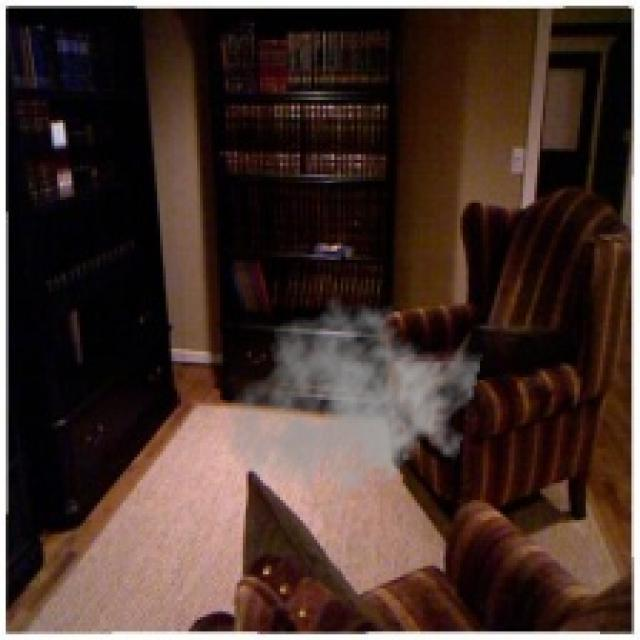Smoke: (223, 294, 483, 517)
